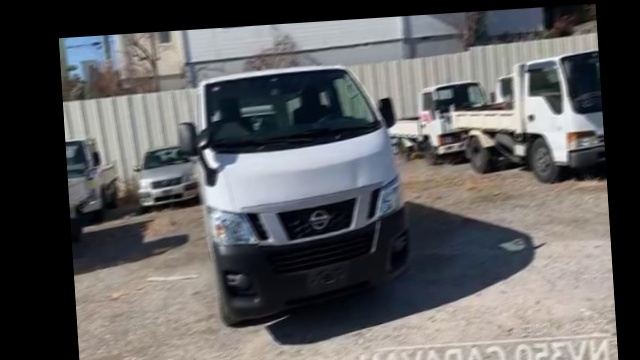van: (193, 60, 412, 332)
